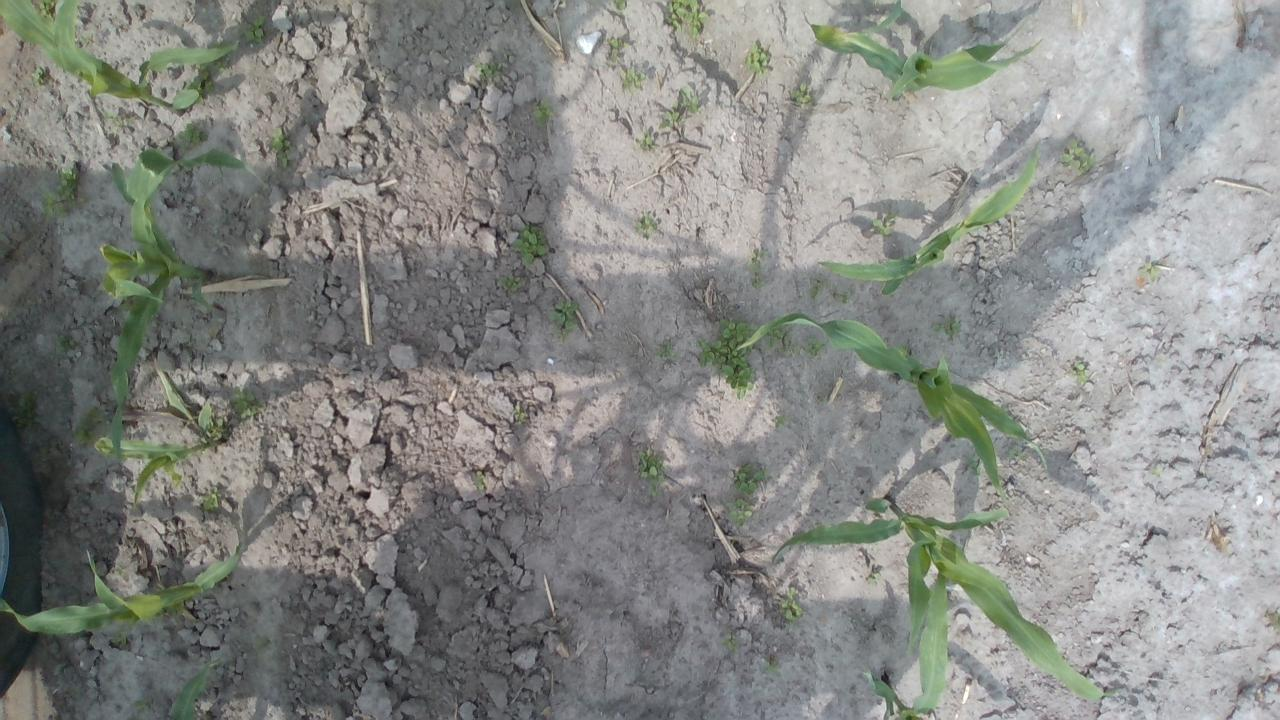Maize: (772, 492, 1120, 715), (736, 312, 1050, 498), (95, 142, 264, 413), (814, 151, 1038, 296), (0, 0, 239, 113), (800, 6, 1044, 101), (0, 548, 240, 636), (98, 356, 222, 502), (862, 665, 924, 720), (169, 659, 218, 720), (859, 0, 907, 34)
Weeds: (696, 316, 759, 402), (41, 165, 78, 220), (182, 55, 230, 96), (662, 0, 708, 42), (1058, 136, 1098, 177), (72, 406, 110, 448), (512, 224, 549, 264), (548, 300, 581, 342), (638, 448, 666, 496), (230, 384, 264, 419), (778, 586, 806, 626), (764, 325, 800, 356), (8, 390, 34, 432), (734, 462, 766, 496), (272, 127, 296, 172), (742, 39, 771, 75), (174, 120, 207, 150), (240, 15, 266, 48), (728, 497, 753, 528), (790, 80, 815, 110), (800, 334, 829, 359), (931, 314, 961, 338), (531, 96, 553, 127), (110, 622, 141, 644), (636, 211, 658, 240), (606, 35, 630, 61), (870, 212, 896, 236), (200, 485, 222, 513), (679, 86, 700, 114), (655, 340, 680, 362), (132, 696, 154, 720), (621, 68, 647, 88), (1134, 260, 1160, 280), (477, 61, 503, 80), (54, 334, 78, 354), (747, 249, 767, 273), (496, 272, 520, 292), (1071, 360, 1089, 385), (100, 108, 122, 128), (661, 106, 680, 128), (208, 419, 226, 440), (966, 455, 984, 476), (255, 633, 274, 652), (30, 66, 46, 88), (638, 132, 656, 151), (724, 632, 738, 656), (764, 656, 782, 674), (808, 277, 824, 297), (512, 406, 528, 425), (472, 470, 486, 490), (78, 30, 94, 46), (1008, 448, 1026, 462), (37, 0, 50, 19), (751, 275, 767, 290), (773, 414, 785, 430), (114, 565, 128, 578), (6, 367, 16, 384), (866, 572, 880, 582), (838, 292, 848, 304), (867, 0, 882, 8), (1151, 466, 1162, 476), (614, 0, 626, 9)
